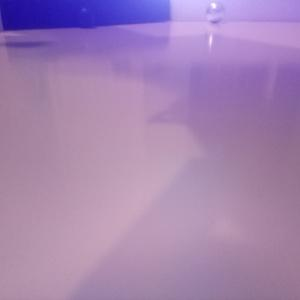alive_ball: (205, 2, 225, 23)
dead_ball: (76, 7, 95, 27)
